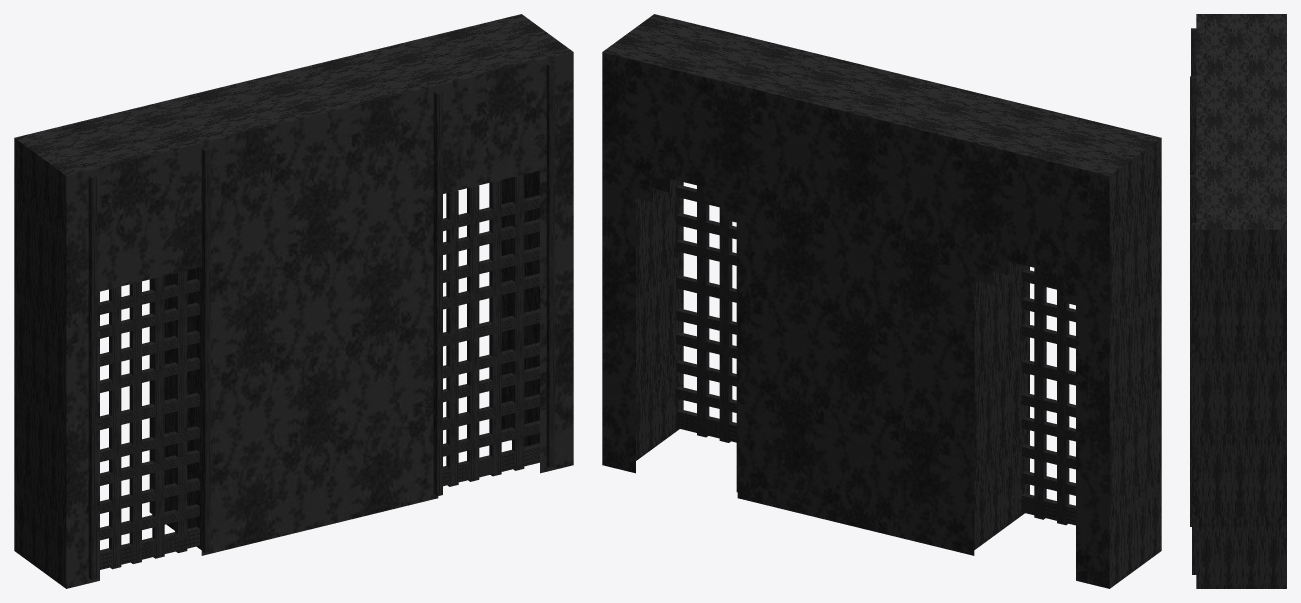
The model's file is room3wall.glb.
3 renders of one model, left to right at view 1: azimuth 30°, elevation 25°; view 2: azimuth 150°, elevation 25°; view 3: azimuth 270°, elevation 25°, orthographic. The views are drawn at different scales.
Parts seen in each view (by area): view 1: pCube1, pCube45, pCube42, pCube43, pCube44, pCube24, pCube23, pCube22, pCube25, pCube30, pCube32, pCube31 (+20 smaller); view 2: pCube1, pCube45, pCube42, pCube22, pCube32, pCube23, pCube33, pCube41, pCube21, pCube17, pCube18, pCube16 (+1 smaller); view 3: pCube1, pCube42, pCube43, pCube45, pCube44.
Boxes of the visible parts, x1,y1,x2,y2 form: pCube1: [14, 14, 573, 588]; pCube45: [149, 147, 210, 552]; pCube42: [501, 63, 554, 467]; pCube43: [433, 90, 442, 496]; pCube44: [88, 175, 97, 579]; pCube24: [467, 185, 479, 481]; pCube23: [489, 180, 501, 476]; pCube22: [512, 174, 524, 470]; pCube25: [446, 190, 458, 486]; pCube30: [109, 286, 121, 569]; pCube32: [152, 276, 164, 558]; pCube31: [129, 281, 141, 563]; pCube1: [602, 14, 1161, 588]; pCube45: [974, 261, 1029, 549]; pCube42: [636, 179, 683, 460]; pCube22: [697, 185, 709, 437]; pCube32: [1057, 287, 1069, 525]; pCube23: [719, 207, 732, 442]; pCube33: [1034, 268, 1046, 519]; pCube41: [676, 409, 1075, 525]; pCube21: [676, 275, 736, 302]; pCube17: [676, 239, 736, 265]; pCube18: [676, 213, 736, 239]; pCube16: [676, 386, 736, 412]; pCube1: [1196, 14, 1286, 588]; pCube42: [1192, 223, 1196, 574]; pCube43: [1190, 175, 1196, 526]; pCube45: [1190, 76, 1196, 174]; pCube44: [1191, 28, 1196, 76].
Size of the model in its own units: 90 by 70 by 17.12.
2 materials, 2 textured.
